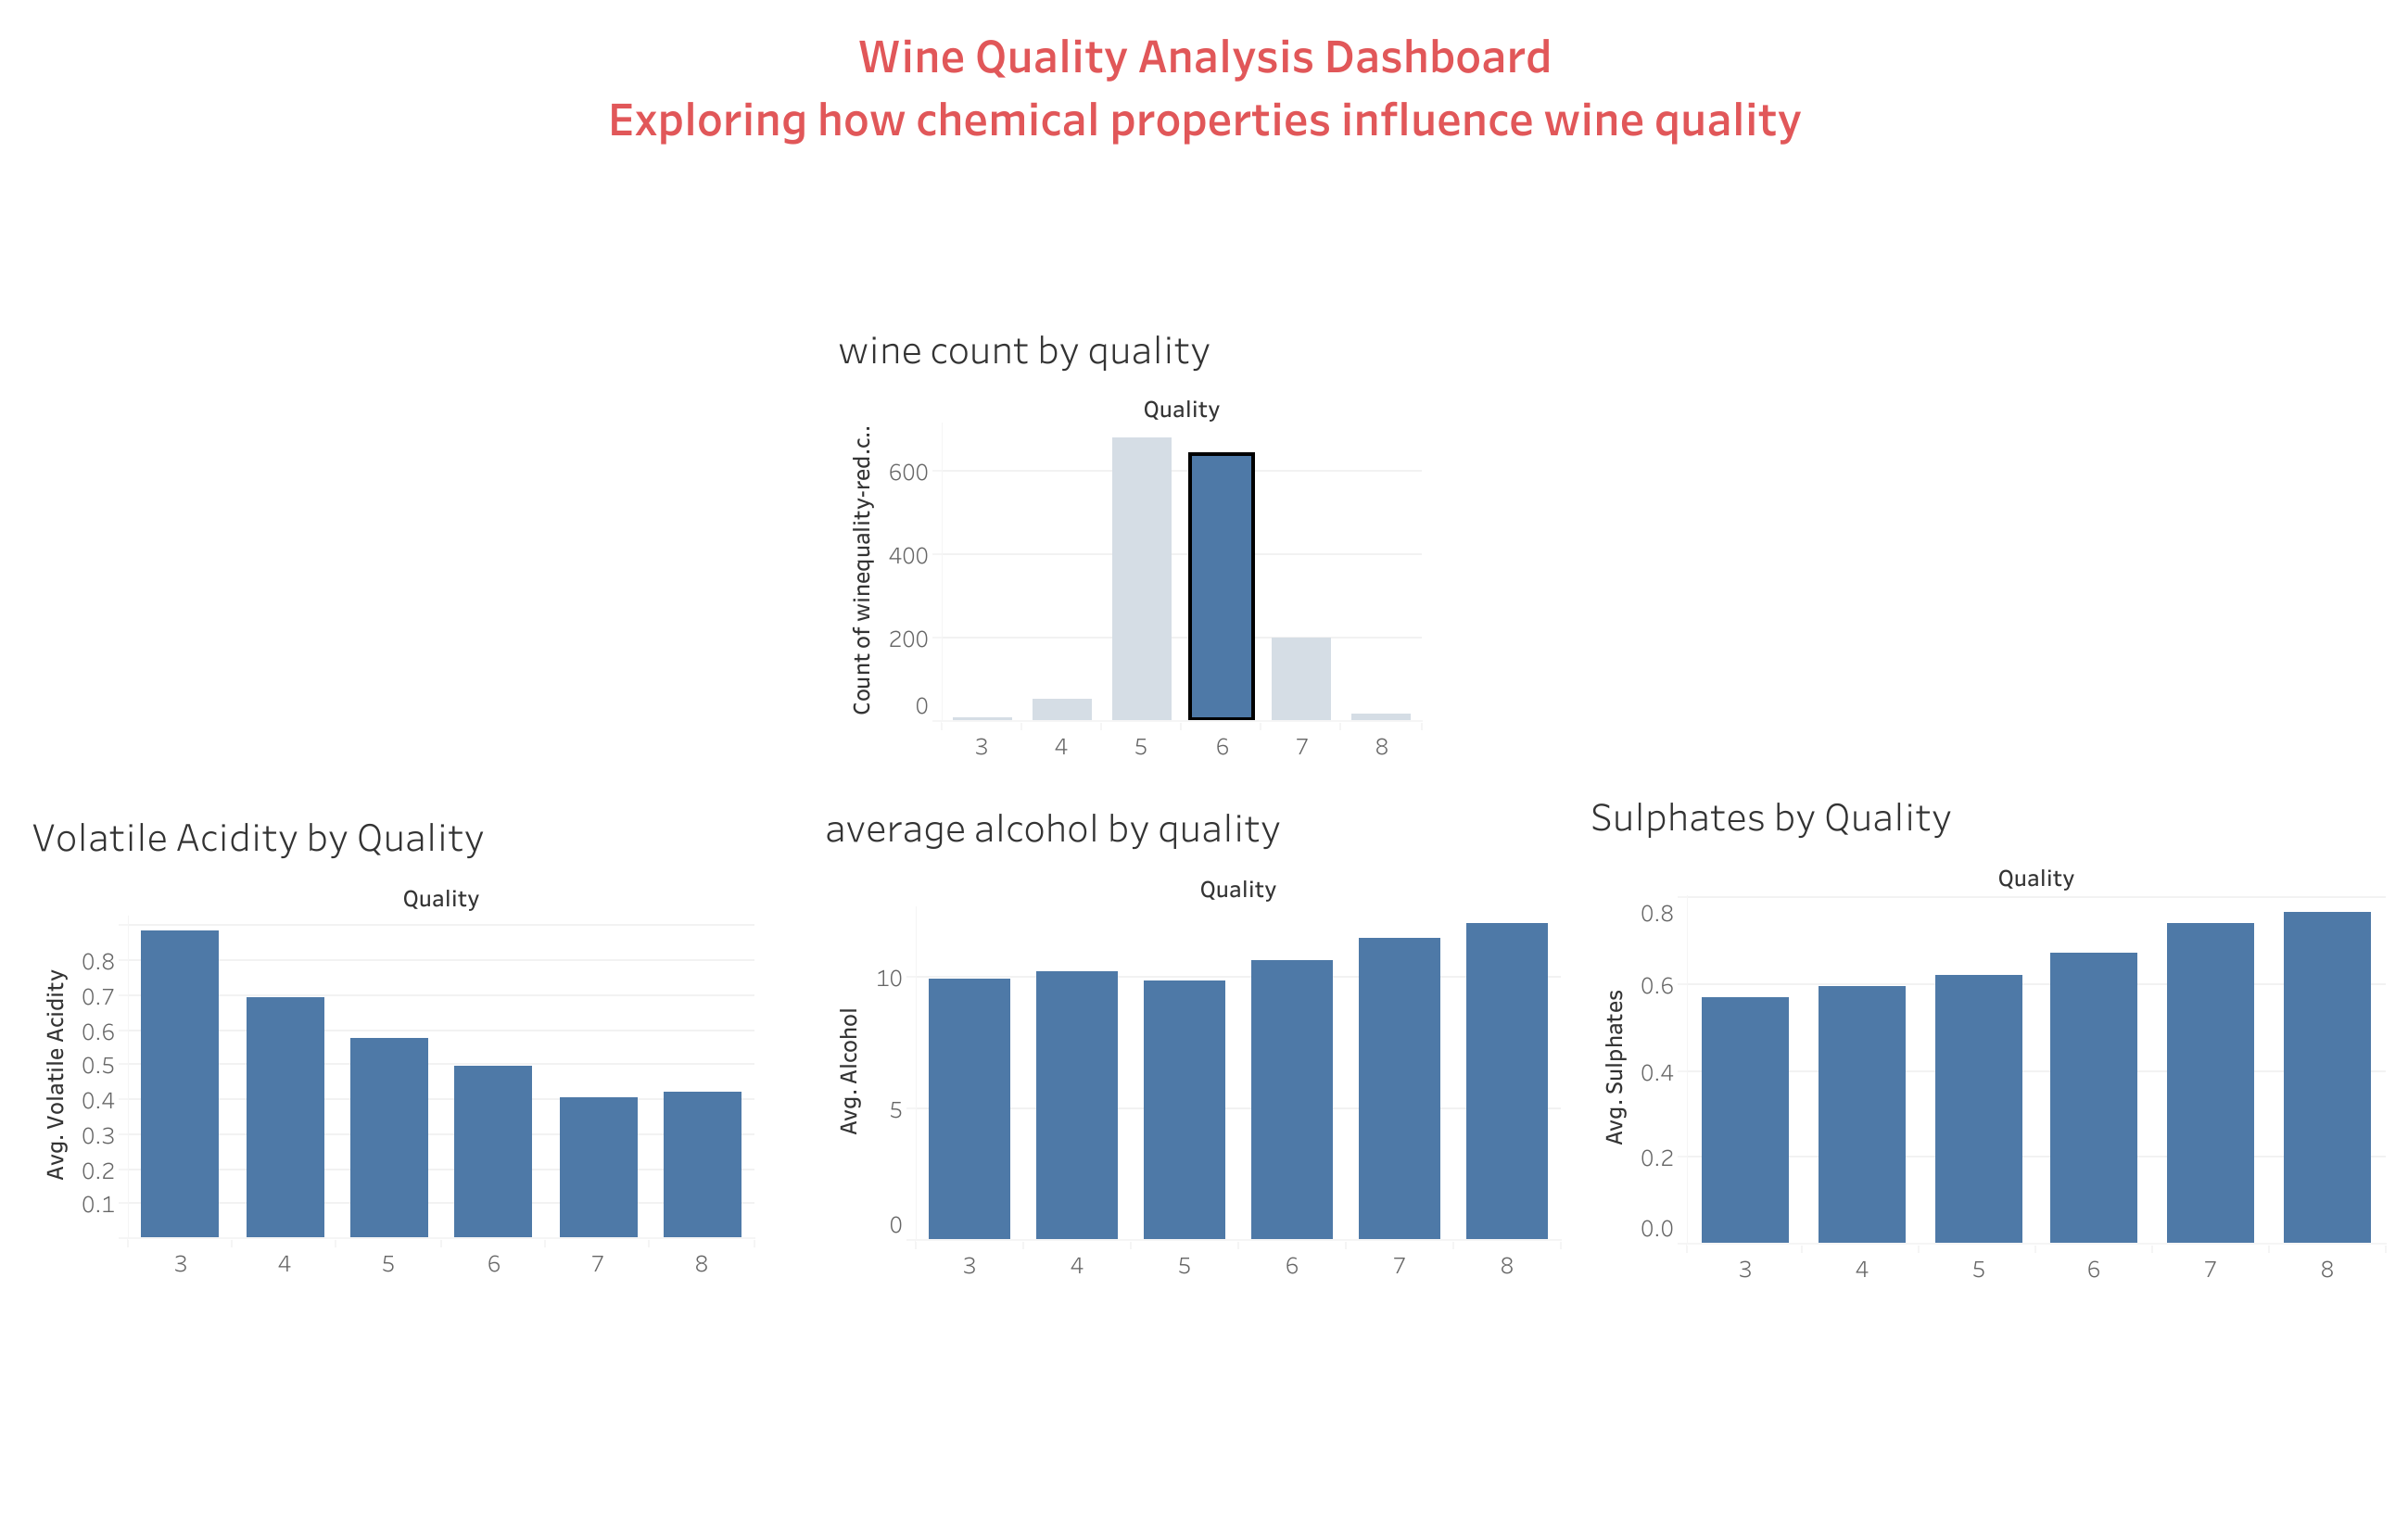

The dashboard page shown, as its layout file describes it:
{"tool":"tableau","page":{"name":"Dashboard 1","canvas":[1000,1000],"units":"permille","ordinal":0},"visuals":[{"type":"title","box":[6.2,9.9,987.7,94.3]},{"type":"blank","box":[6.2,104.2,987.7,135.1]},{"type":"worksheet","title":"wine count by quality","mark":"Automatic","rows":["winequality-red.csv_68A7051E12774BE08000A95B128DC0AF"],"cols":["quality"],"box":[344.6,205.3,245.4,295.9]},{"type":"blank","box":[6.2,239.3,987.7,750.7]},{"type":"worksheet","title":"Sulphates by Quality","mark":"Automatic","rows":["sulphates"],"cols":["quality"],"box":[656.9,512.8,333.1,332.6]},{"type":"worksheet","title":"average alcohol by quality","mark":"Automatic","rows":["alcohol"],"cols":["quality"],"box":[339.2,519.8,308.5,323.3]},{"type":"worksheet","title":"Volatile Acidity by Quality","mark":"Automatic","rows":["volatile acidity"],"cols":["quality"],"box":[10,525.6,303.1,316.3]}]}

Visuals, with their boxes on the dashboard's canvas, which has no fixed pixel size, in thousandths of its width and height (x1, y1, x2, y2). These are canvas units, not pixel positions in the 2408x1518 screenshot, which may show the page scaled, cropped or inside an application window:
title: 6, 10, 994, 104
blank: 6, 104, 994, 239
"wine count by quality" worksheet: 345, 205, 590, 501
blank: 6, 239, 994, 990
"Sulphates by Quality" worksheet: 657, 513, 990, 845
"average alcohol by quality" worksheet: 339, 520, 648, 843
"Volatile Acidity by Quality" worksheet: 10, 526, 313, 842
